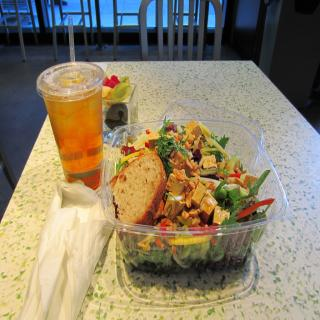Salad: (109, 116, 271, 262)
